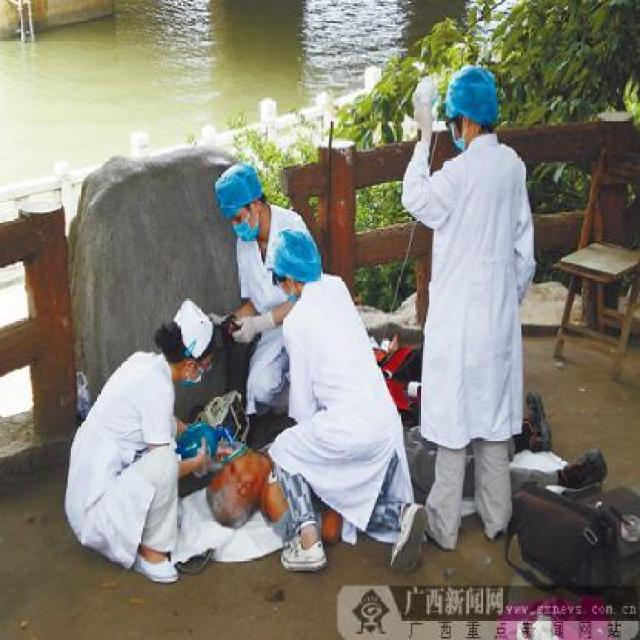fall: (194, 378, 637, 533)
